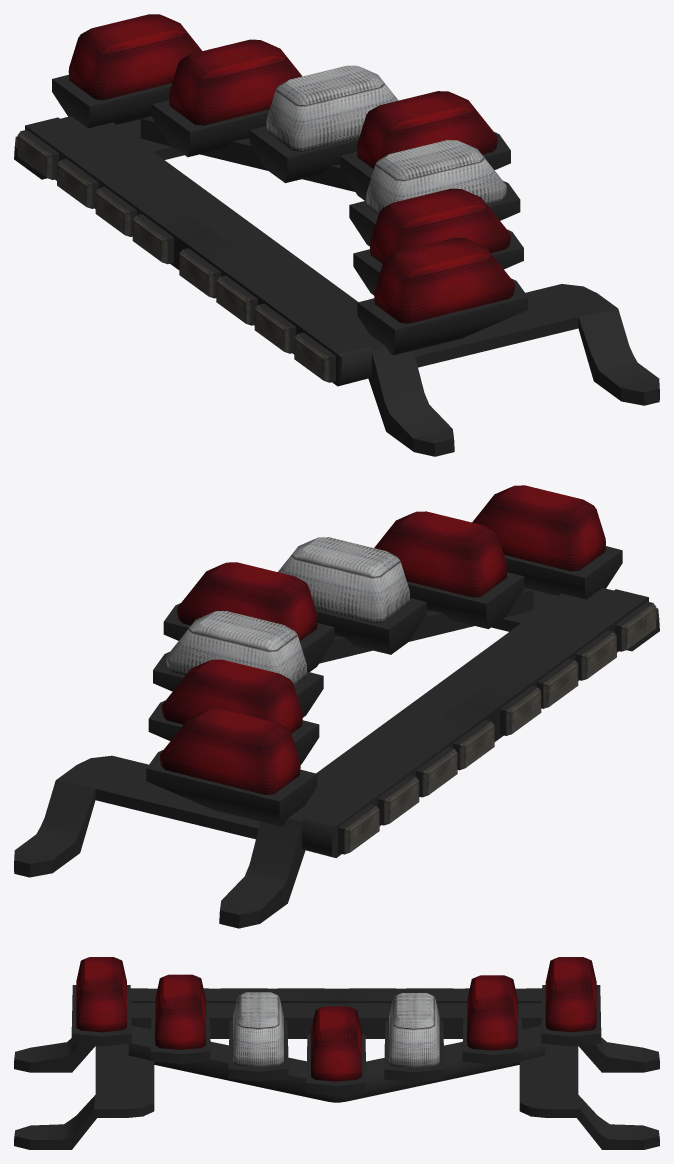
Rendered from gallo99_lightbar_ucb_lights_and_glass_0_lev3.glb.
The picture shows the model from 3 angles, top to bottom: view 1: azimuth 30°, elevation 25°; view 2: azimuth 150°, elevation 25°; view 3: azimuth 270°, elevation 25°; orthographic projection. The views are drawn at different scales.
Visible parts, largest first — view 1: gallo99_lightbar_ucb_lights_and_glass_0_lev3; view 2: gallo99_lightbar_ucb_lights_and_glass_0_lev3; view 3: gallo99_lightbar_ucb_lights_and_glass_0_lev3.
Part boxes in pixels (x1=…): gallo99_lightbar_ucb_lights_and_glass_0_lev3: x1=14, y1=14, x2=659, y2=456; gallo99_lightbar_ucb_lights_and_glass_0_lev3: x1=14, y1=485, x2=659, y2=928; gallo99_lightbar_ucb_lights_and_glass_0_lev3: x1=14, y1=957, x2=659, y2=1149.
Size of the model in its own units: 0.4447 by 0.1939 by 0.986.
Materials: 1 (1 with a texture image).
